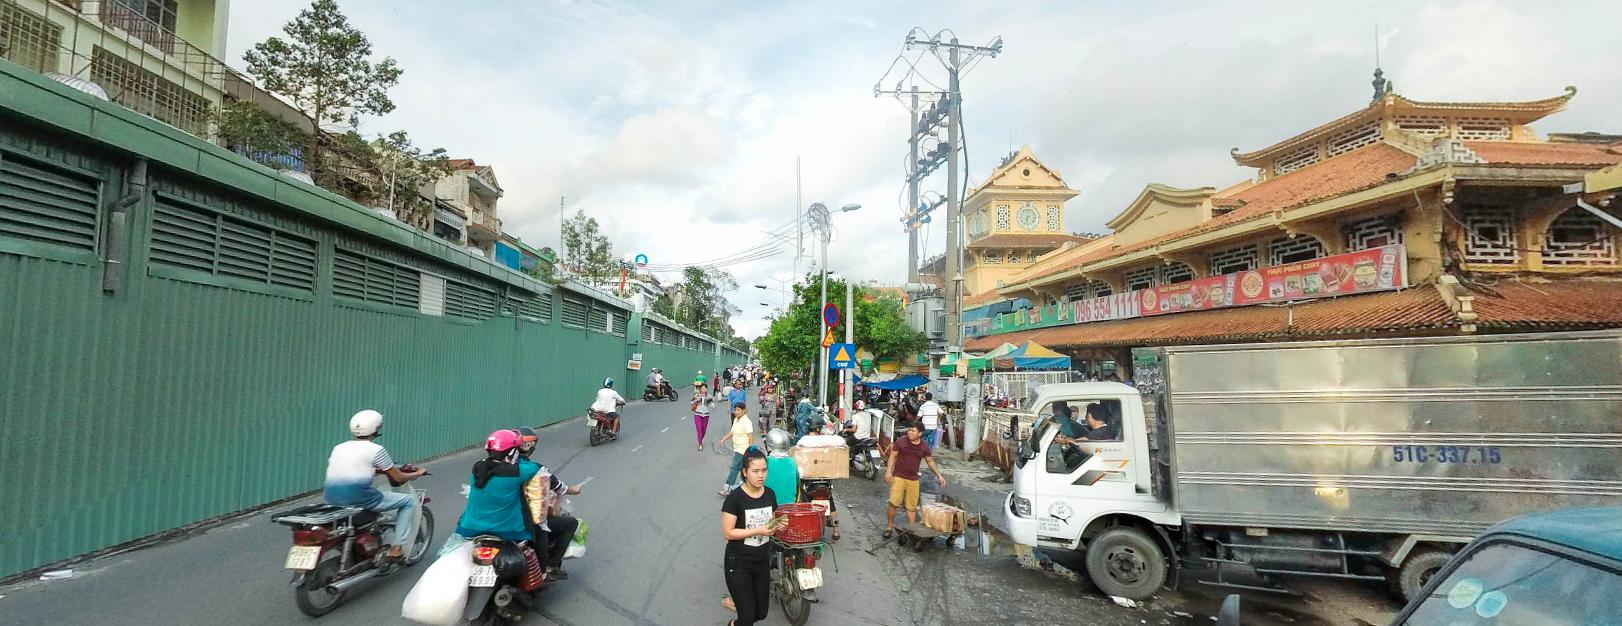Cam dung va do: (823, 301, 839, 325)
Nguy hiem: (820, 327, 838, 346), (833, 342, 851, 360)
